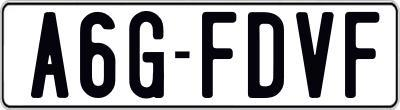6: (78, 9, 115, 97)
A: (28, 9, 68, 96)
D: (246, 10, 287, 101)
F: (202, 11, 242, 101), (342, 12, 377, 100)
G: (127, 11, 165, 102)
V: (293, 12, 334, 98)
